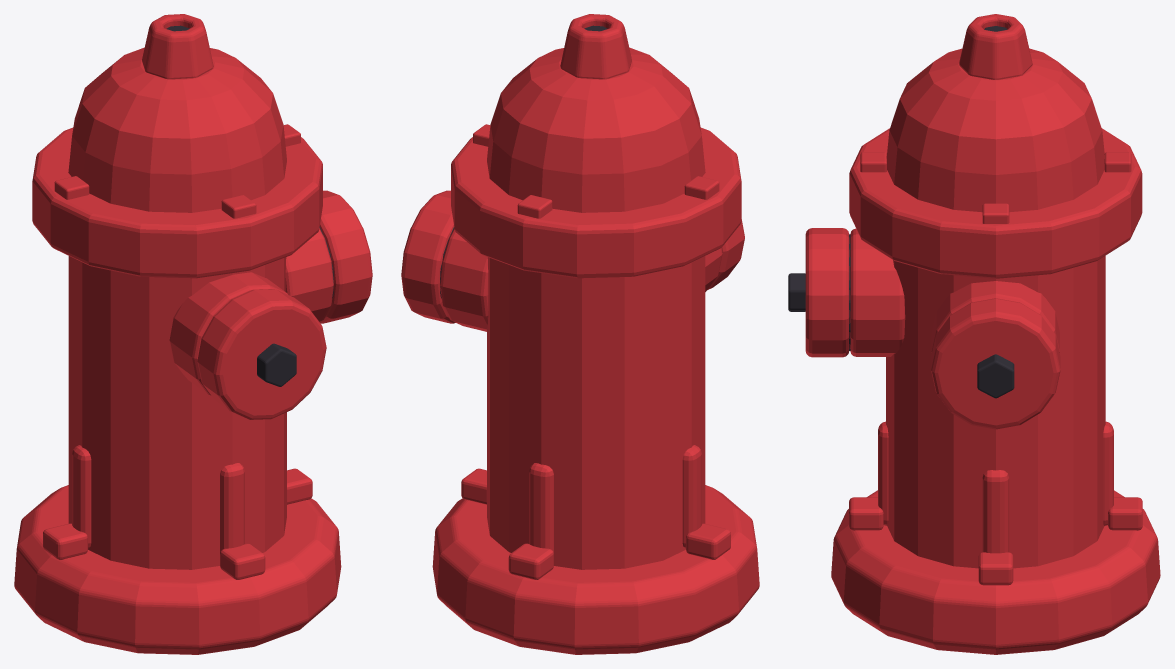
3 views of the same model, side by side, from view 1: azimuth 30°, elevation 25°; view 2: azimuth 150°, elevation 25°; view 3: azimuth 270°, elevation 25° (orthographic).
Visible parts, largest first — view 1: body, hardware; view 2: body; view 3: body, hardware.
Part boxes in pixels (bbox=[...]): body: bbox=[14, 14, 372, 654]; hardware: bbox=[166, 25, 333, 386]; body: bbox=[401, 14, 759, 654]; body: bbox=[805, 14, 1160, 654]; hardware: bbox=[788, 26, 1014, 398].
Bounding box in the file's own units: 0.6431 × 1.08 × 0.6431.
